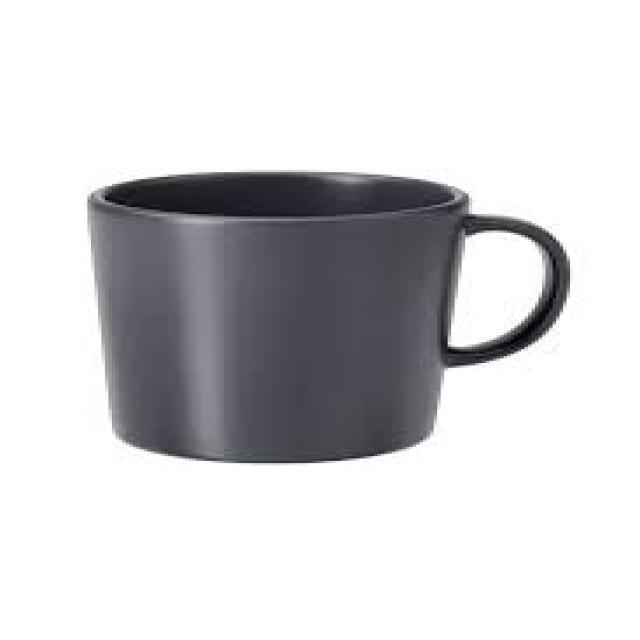taza: (84, 169, 570, 464)
